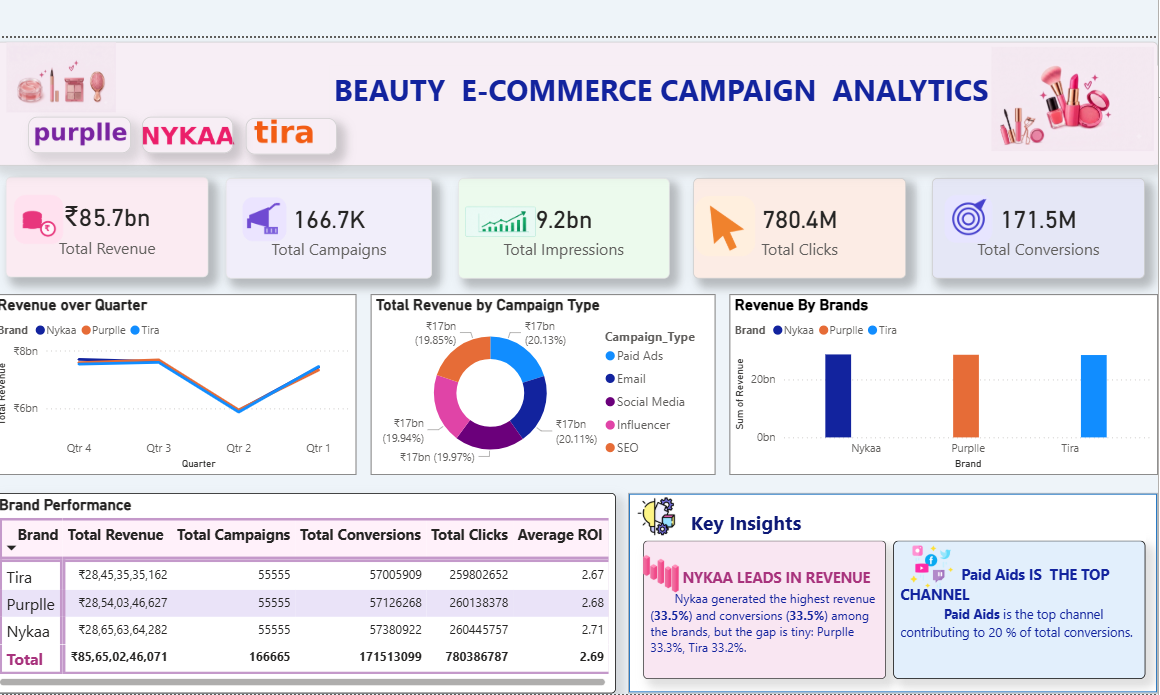

What the dashboard file says about the page in this screenshot:
{"tool":"powerbi","page":{"name":"NYKAA","canvas":[1280,720],"ordinal":1},"visuals":[{"type":"card","fields":{"Values":["Tira_Purplle_Nykaa_Marketing_Campaign_Analytics_166665.Total Campaigns"]},"box":[256.7,153.3,226.7,110],"z":0},{"type":"card","fields":{"Values":["Tira_Purplle_Nykaa_Marketing_Campaign_Analytics_166665.Total Impressions"]},"box":[511.7,153.3,231.7,110],"z":1000},{"type":"card","fields":{"Values":["Tira_Purplle_Nykaa_Marketing_Campaign_Analytics_166665.Total Revenue"]},"box":[14.7,152.9,222.6,110.1],"z":2000},{"type":"card","fields":{"Values":["Tira_Purplle_Nykaa_Marketing_Campaign_Analytics_166665.Total Clicks"]},"box":[770,153.3,233.3,110],"z":3000},{"type":"card","fields":{"Values":["Tira_Purplle_Nykaa_Marketing_Campaign_Analytics_166665.Total Conversions"]},"box":[1031.7,153.3,233.3,110],"z":4000},{"type":"textbox","box":[0,0,1280.3,140],"z":5000},{"type":"areaChart","title":"Revenue over Quarter","fields":{"Category":["Tira_Purplle_Nykaa_Marketing_Campaign_Analytics_166665.Date.Variation.Date Hierarchy.Year","Tira_Purplle_Nykaa_Marketing_Campaign_Analytics_166665.Date.Variation.Date Hierarchy.Quarter","Tira_Purplle_Nykaa_Marketing_Campaign_Analytics_166665.Date.Variation.Date Hierarchy.Month","Tira_Purplle_Nykaa_Marketing_Campaign_Analytics_166665.Date.Variation.Date Hierarchy.Day"],"Y":["Tira_Purplle_Nykaa_Marketing_Campaign_Analytics_166665.Total Revenue"],"Series":["Tira_Purplle_Nykaa_Marketing_Campaign_Analytics_166665.Brand"]},"box":[0,281.7,400,198.3],"z":6000},{"type":"donutChart","title":"Total Revenue by Campaign Type","fields":{"Category":["Tira_Purplle_Nykaa_Marketing_Campaign_Analytics_166665.Campaign_Type"],"Y":["Tira_Purplle_Nykaa_Marketing_Campaign_Analytics_166665.Total Revenue"]},"box":[416.7,281.7,378.3,198.3],"z":7000},{"type":"clusteredColumnChart","title":"Revenue By NYKAA","fields":{"Y":["Sum(Tira_Purplle_Nykaa_Marketing_Campaign_Analytics_166665.Revenue)"],"Category":["Tira_Purplle_Nykaa_Marketing_Campaign_Analytics_166665.Brand"],"Series":["Tira_Purplle_Nykaa_Marketing_Campaign_Analytics_166665.Brand"]},"box":[810,281.7,470,198.3],"z":8000},{"type":"pivotTable","title":"Brand Performance","fields":{"Rows":["Tira_Purplle_Nykaa_Marketing_Campaign_Analytics_166665.Brand"],"Values":["Tira_Purplle_Nykaa_Marketing_Campaign_Analytics_166665.Total Revenue","Tira_Purplle_Nykaa_Marketing_Campaign_Analytics_166665.Total Campaigns","Tira_Purplle_Nykaa_Marketing_Campaign_Analytics_166665.Total Conversions","Tira_Purplle_Nykaa_Marketing_Campaign_Analytics_166665.Total Clicks","Tira_Purplle_Nykaa_Marketing_Campaign_Analytics_166665.Average ROI"]},"box":[0,500.1,684.8,220.1],"z":9000},{"type":"shape","box":[698.3,500,581.7,220],"z":10000},{"type":"textbox","box":[715,511.7,551.7,40],"z":11000},{"type":"image","box":[114.9,63.6,168.8,81.9],"z":12000},{"type":"image","box":[0,64.8,149.2,81.9],"z":13000},{"type":"image","box":[222.6,6.1,211.6,201.8],"z":14000},{"type":"image","box":[1002.7,163.9,137,70.9],"z":15000},{"type":"image","box":[761.7,163.3,86.7,86.7],"z":16000},{"type":"image","box":[256.8,163.9,84.4,66],"z":17000},{"type":"image","box":[14.7,121.1,72.1,156.5],"z":18000},{"type":"image","box":[511.7,140,93.3,123.3],"z":19000},{"type":"image","box":[681.7,500,95,51.7],"z":20000},{"type":"textbox","box":[379.1,30.6,901.2,108.8],"z":21000},{"type":"actionButton","title":" VVVVV","box":[1128.7,86.8,100.3,40.4],"z":22000},{"type":"actionButton","box":[13.5,84.4,112.5,40.4],"z":23000},{"type":"actionButton","box":[140.6,84.4,116.2,40.4],"z":24000},{"type":"actionButton","box":[265.4,86.8,113.7,40.4],"z":25000},{"type":"textbox","box":[714.9,551.6,550.3,152.3],"z":26000}]}

Visuals, with their boxes on the page's 1280x720 design canvas (x1, y1, x2, y2). These are canvas units, not pixel positions in the 1160x695 screenshot, which may show the page scaled, cropped or inside an application window:
card - Tira_Purplle_Nykaa_Marketing_Campaign_Analytics_166665.Total Campaigns: locate(257, 153, 483, 263)
card - Tira_Purplle_Nykaa_Marketing_Campaign_Analytics_166665.Total Impressions: locate(512, 153, 743, 263)
card - Tira_Purplle_Nykaa_Marketing_Campaign_Analytics_166665.Total Revenue: locate(15, 153, 237, 263)
card - Tira_Purplle_Nykaa_Marketing_Campaign_Analytics_166665.Total Clicks: locate(770, 153, 1003, 263)
card - Tira_Purplle_Nykaa_Marketing_Campaign_Analytics_166665.Total Conversions: locate(1032, 153, 1265, 263)
textbox: locate(0, 0, 1280, 140)
"Revenue over Quarter" areaChart: locate(0, 282, 400, 480)
"Total Revenue by Campaign Type" donutChart: locate(417, 282, 795, 480)
"Revenue By NYKAA" clusteredColumnChart: locate(810, 282, 1280, 480)
"Brand Performance" pivotTable: locate(0, 500, 685, 720)
shape: locate(698, 500, 1280, 720)
textbox: locate(715, 512, 1267, 552)
image: locate(115, 64, 284, 146)
image: locate(0, 65, 149, 147)
image: locate(223, 6, 434, 208)
image: locate(1003, 164, 1140, 235)
image: locate(762, 163, 848, 250)
image: locate(257, 164, 341, 230)
image: locate(15, 121, 87, 278)
image: locate(512, 140, 605, 263)
image: locate(682, 500, 777, 552)
textbox: locate(379, 31, 1280, 139)
" VVVVV" actionButton: locate(1129, 87, 1229, 127)
actionButton: locate(14, 84, 126, 125)
actionButton: locate(141, 84, 257, 125)
actionButton: locate(265, 87, 379, 127)
textbox: locate(715, 552, 1265, 704)
